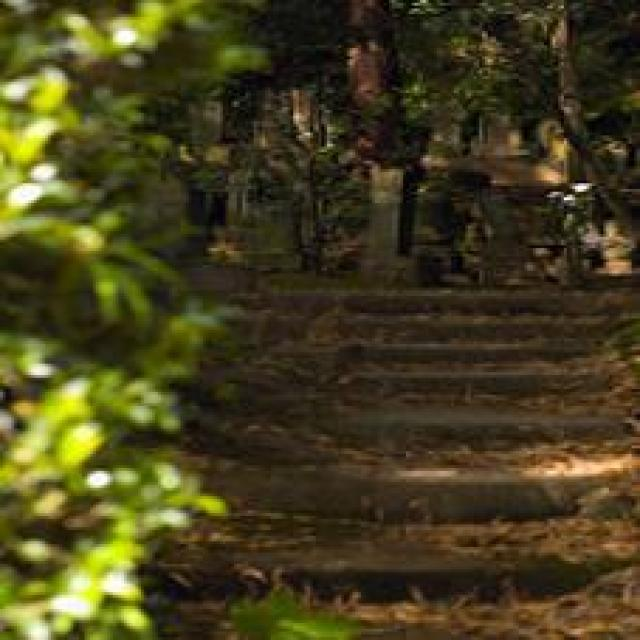upstair: (184, 263, 585, 579)
